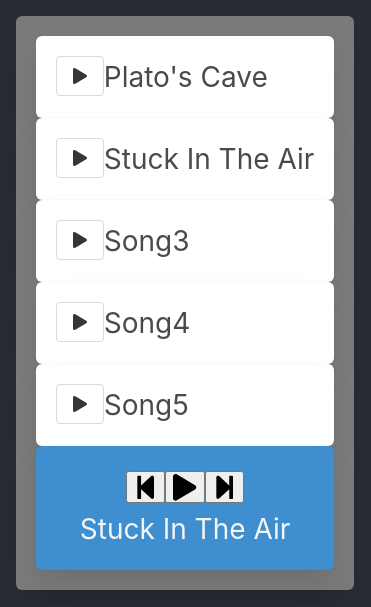
Scenario: The musicPlayer app › plays the next song when Next clicked
Click the button with id "NextButton": [224, 487] box [205, 471, 244, 503]
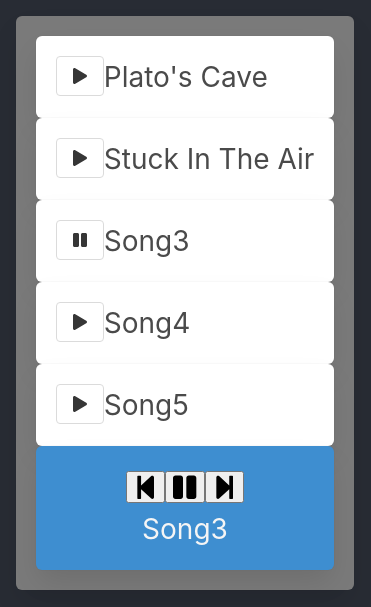
Expected: the heading with id "MusicLabel" reads "Song3", [142, 512, 228, 546]
